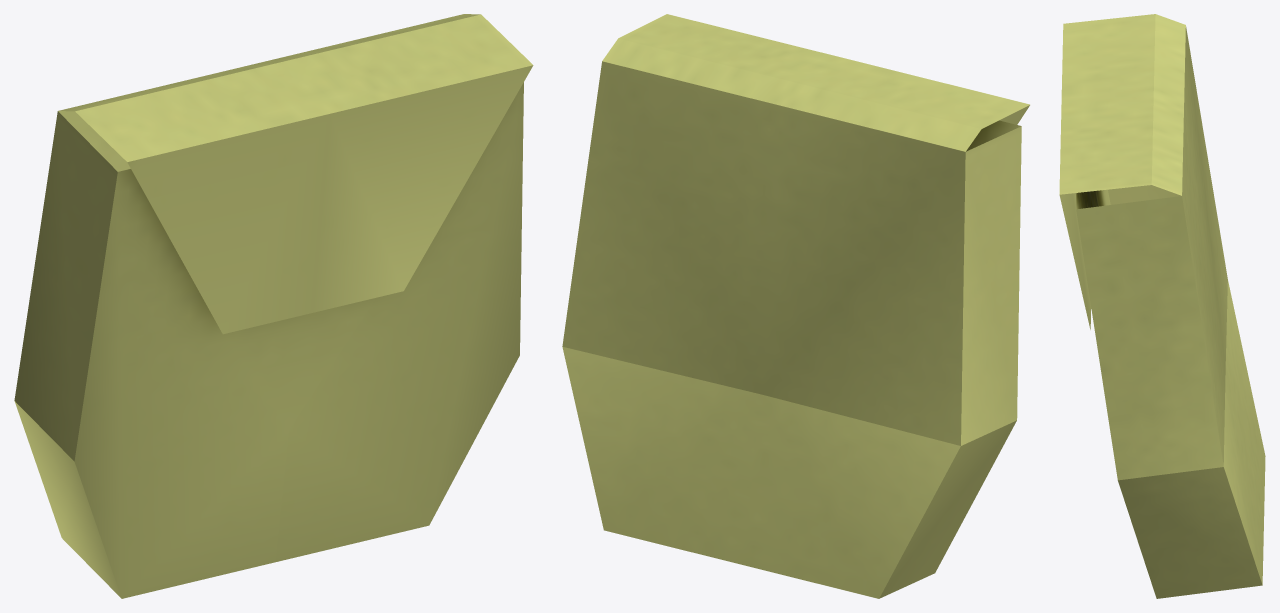
File: ShortChPoket.FBX
The picture shows the model from 3 angles, left to right: view 1: azimuth 30°, elevation 25°; view 2: azimuth 150°, elevation 25°; view 3: azimuth 270°, elevation 25°; orthographic projection. The views are drawn at different scales.
Visible parts, largest first — view 1: ShortChPoket; view 2: ShortChPoket; view 3: ShortChPoket.
Boxes of the visible parts, left/top/right/bottom form: ShortChPoket: left=14, top=14, right=533, bottom=598; ShortChPoket: left=562, top=14, right=1029, bottom=598; ShortChPoket: left=1059, top=14, right=1265, bottom=598.
Bounding box in the file's own units: 132 × 61.36 × 143.
1 material, 1 textured.
